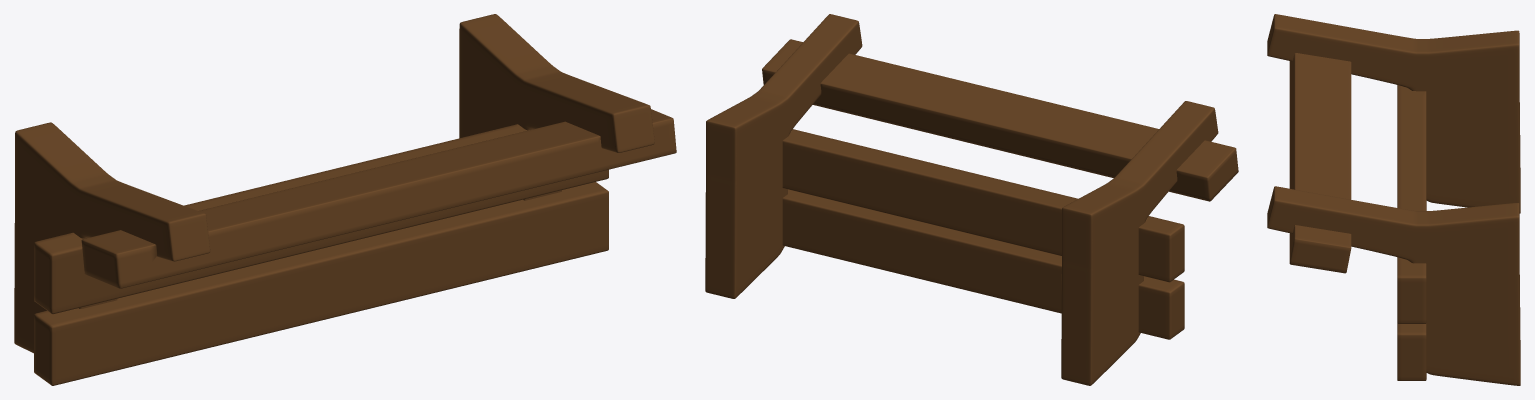
Rendered from 16452_WoodenBench_NEW.obj.
3 views of the same model, side by side, from view 1: azimuth 30°, elevation 25°; view 2: azimuth 150°, elevation 25°; view 3: azimuth 270°, elevation 25° (orthographic). The views are drawn at different scales.
Parts seen in each view (by area): view 1: Box008; view 2: Box008; view 3: Box008.
Boxes of the visible parts, <box> form: Box008: <box>14,14,676,385</box>; Box008: <box>705,14,1238,385</box>; Box008: <box>1267,14,1520,385</box>.
Size of the model in its own units: 2.94 by 1.18 by 1.46.
